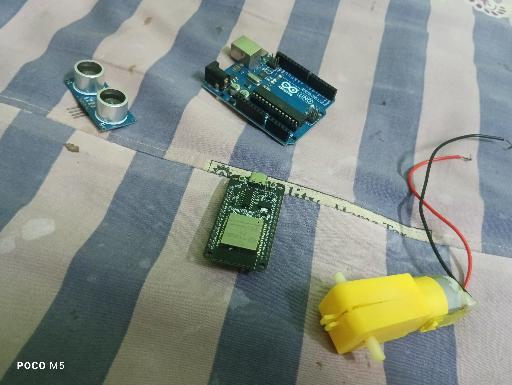Arduino: (200, 34, 337, 147)
Esp32: (202, 172, 286, 272)
Motor: (317, 272, 477, 364)
sensor: (62, 59, 138, 133)
